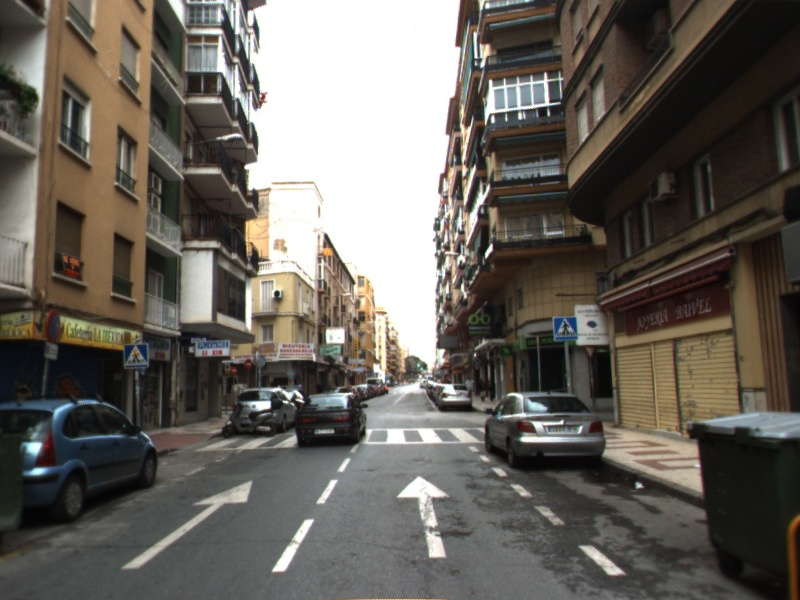STRAIGHT: (119, 476, 255, 572), (394, 472, 454, 561)
